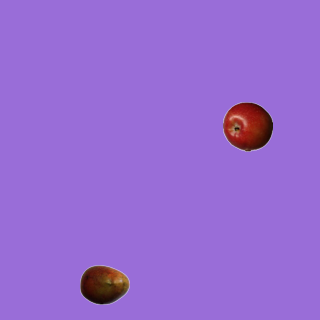Apple Braeburn: (222, 101, 272, 151)
Mango Red: (79, 259, 129, 309)
